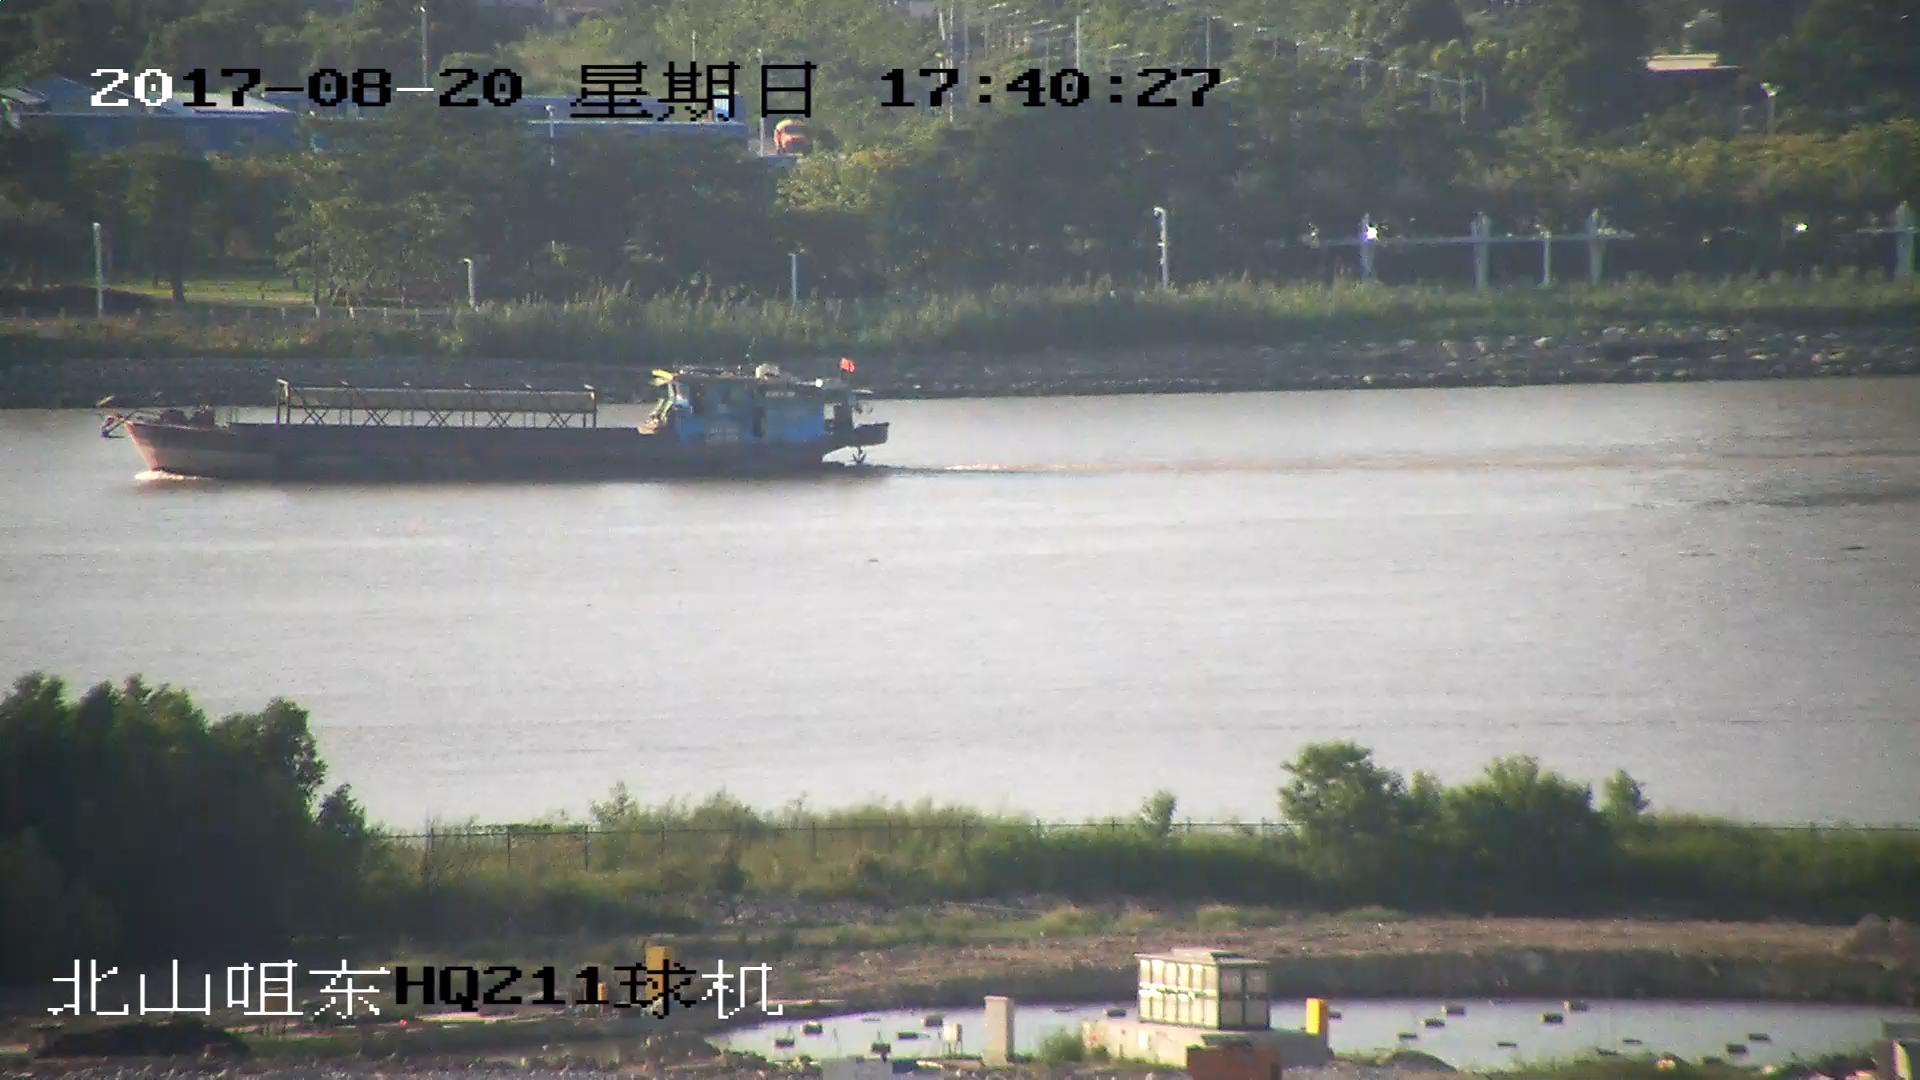fishing boat: (107, 361, 890, 476)
